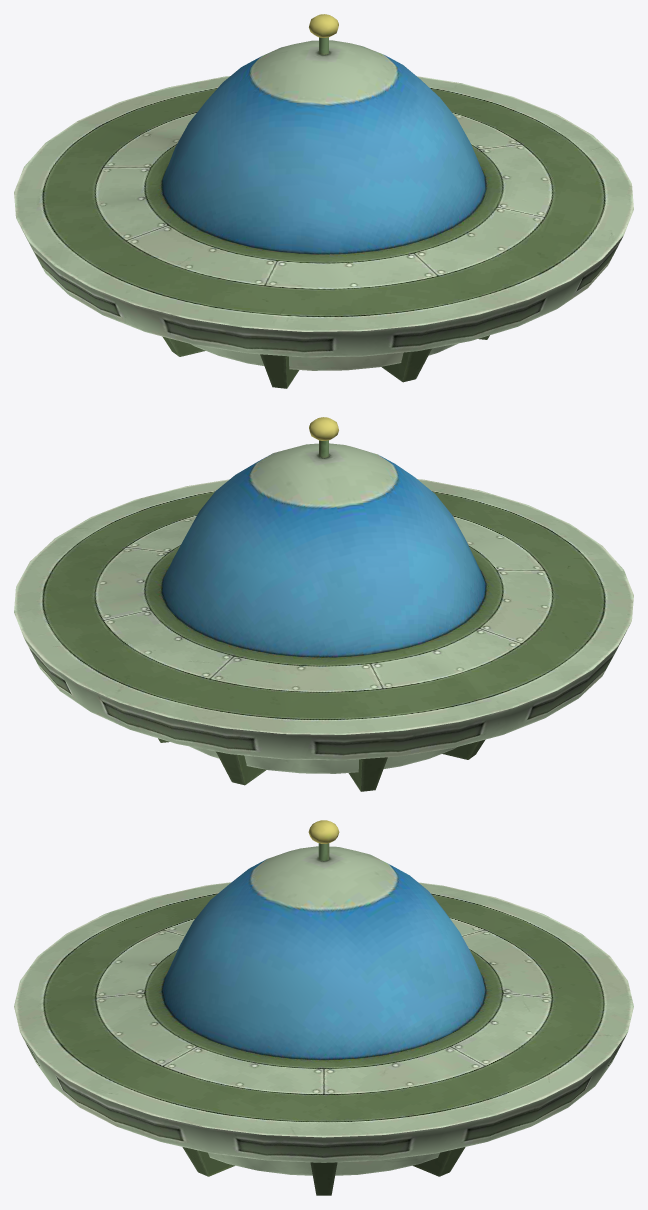
The model's file is UFO_B.dae.
The picture shows the model from 3 angles, top to bottom: view 1: azimuth 30°, elevation 25°; view 2: azimuth 150°, elevation 25°; view 3: azimuth 270°, elevation 25°; orthographic projection.
Visible parts, largest first — view 1: Flying_Saucer_B; view 2: Flying_Saucer_B; view 3: Flying_Saucer_B.
Part boxes in pixels (x1,y1,x2,y2): Flying_Saucer_B: (14, 14, 633, 388); Flying_Saucer_B: (14, 417, 633, 791); Flying_Saucer_B: (14, 820, 633, 1195).
Size of the model in its own units: 0.5 by 0.2675 by 0.5.
Materials: 1 (1 with a texture image).
